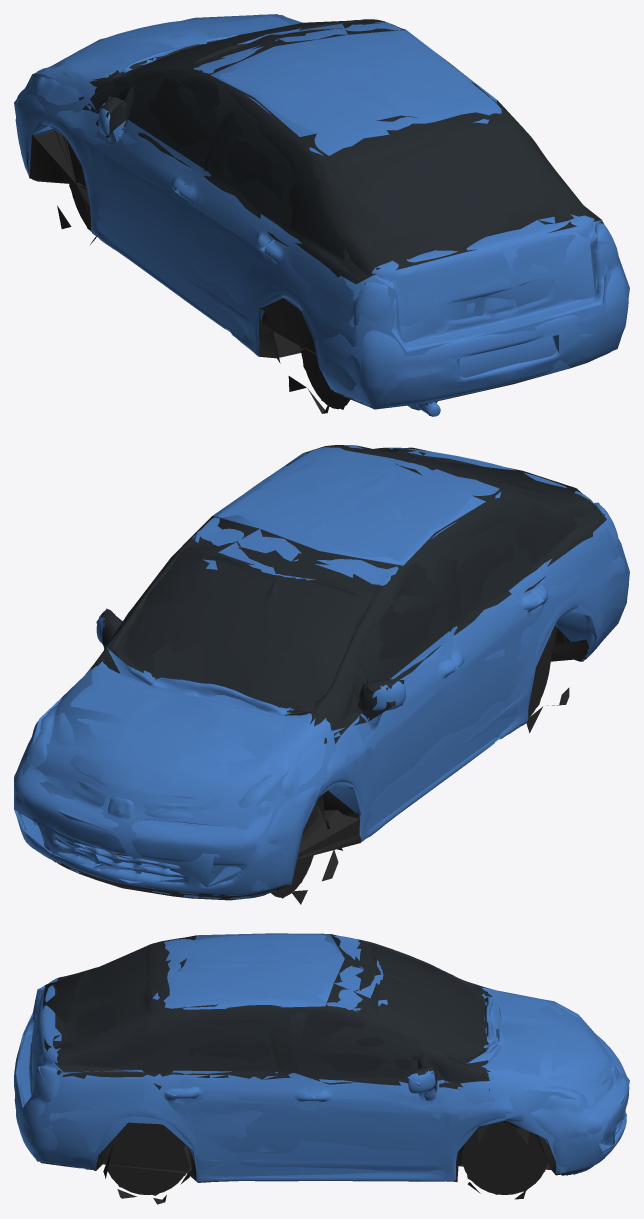
Rendered from nissan-versa.glb.
3 renders of one model, top to bottom at view 1: azimuth 30°, elevation 25°; view 2: azimuth 150°, elevation 25°; view 3: azimuth 270°, elevation 25°, orthographic. The views are drawn at different scales.
Parts seen in each view (by area): view 1: body, far; view 2: body, far; view 3: body, far.
Part boxes in pixels (x1,y1,x2,y2): body: (15,14,628,416); far: (14,14,629,412); body: (14,445,629,900); far: (14,445,629,904); body: (14,934,629,1204); far: (14,933,629,1195).
Bounding box in the file's own units: 1.97 × 1.57 × 4.49.
